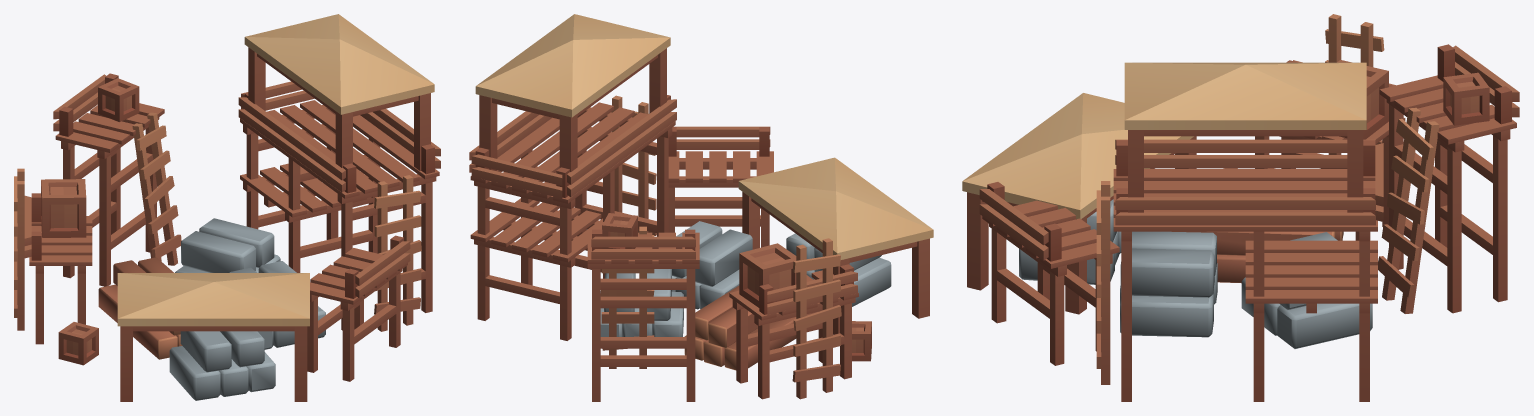
File: building_scaffolding.glb
3 renders of one model, left to right at view 1: azimuth 30°, elevation 25°; view 2: azimuth 150°, elevation 25°; view 3: azimuth 270°, elevation 25°, orthographic. The views are drawn at different scales.
Parts seen in each view (by area): view 1: building_scaffolding; view 2: building_scaffolding; view 3: building_scaffolding.
Part boxes in pixels (<box>): building_scaffolding: <box>14,14,440,401</box>; building_scaffolding: <box>469,14,933,401</box>; building_scaffolding: <box>962,14,1519,401</box>.
Bounding box in the file's own units: 1.9 × 1.3 × 2.11.
Materials: 1 (1 with a texture image).
